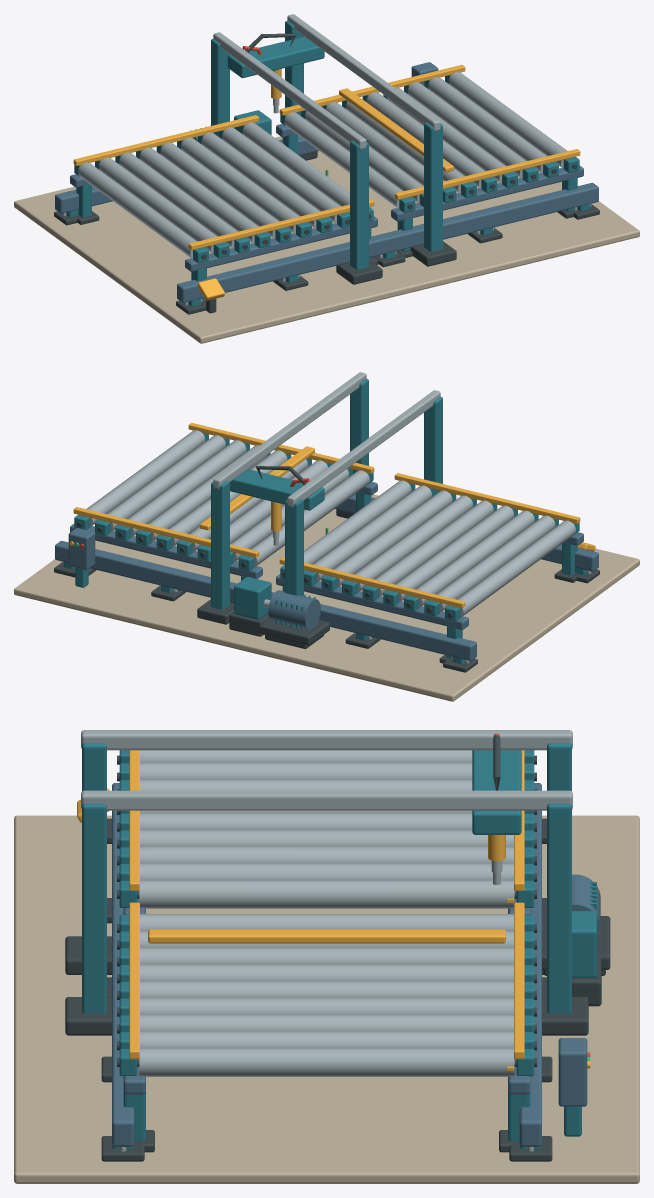
The model's file is CS-PLATE-06-lod0.glb.
3 renders of one model, top to bottom at view 1: azimuth 30°, elevation 25°; view 2: azimuth 150°, elevation 25°; view 3: azimuth 270°, elevation 25°, orthographic. The views are drawn at different scales.
Parts seen in each view (by area): view 1: foundation, right_bed_beam, entry_table_idler_0, exit_right_pillar, entry_right_pillar, entry_gantry_rail, exit_gantry_rail, entry_table_idler_4, entry_table_idler_2, entry_table_idler_6, entry_table_idler_1, exit_table_idler_6 (+25 smaller); view 2: foundation, left_bed_beam, entry_table_idler_0, exit_left_pillar, entry_gantry_rail, exit_gantry_rail, entry_table_idler_4, entry_table_idler_2, entry_table_idler_6, entry_table_idler_1, exit_table_idler_6, entry_table_idler_3 (+29 smaller); view 3: foundation, exit_table_idler_8, entry_table_idler_8, exit_gantry_rail, entry_gantry_rail, exit_table_idler_2, exit_table_idler_3, exit_table_idler_6, exit_table_idler_7, entry_table_idler_6, exit_table_idler_4, exit_table_idler_5 (+33 smaller).
Boxes of the visible parts, bbox=[...] form: foundation: bbox=[14, 136, 639, 343]; right_bed_beam: bbox=[177, 182, 598, 302]; entry_table_idler_0: bbox=[78, 162, 196, 258]; exit_right_pillar: bbox=[424, 122, 442, 251]; entry_right_pillar: bbox=[350, 140, 368, 269]; entry_gantry_rail: bbox=[213, 32, 366, 149]; exit_gantry_rail: bbox=[287, 14, 440, 131]; entry_table_idler_4: bbox=[160, 142, 278, 238]; entry_table_idler_2: bbox=[119, 152, 237, 248]; entry_table_idler_6: bbox=[201, 132, 320, 228]; entry_table_idler_1: bbox=[98, 157, 217, 253]; exit_table_idler_6: bbox=[407, 82, 526, 178]; foundation: bbox=[14, 494, 639, 701]; left_bed_beam: bbox=[55, 540, 476, 660]; entry_table_idler_0: bbox=[457, 520, 575, 616]; exit_left_pillar: bbox=[211, 480, 229, 609]; entry_gantry_rail: bbox=[287, 390, 440, 507]; exit_gantry_rail: bbox=[213, 372, 366, 489]; entry_table_idler_4: bbox=[375, 500, 493, 596]; entry_table_idler_2: bbox=[416, 510, 534, 606]; entry_table_idler_6: bbox=[333, 490, 452, 586]; entry_table_idler_1: bbox=[436, 515, 555, 611]; exit_table_idler_6: bbox=[127, 440, 246, 536]; entry_table_idler_3: bbox=[395, 505, 514, 601]; foundation: bbox=[14, 815, 639, 1183]; exit_table_idler_8: bbox=[139, 1048, 514, 1076]; entry_table_idler_8: bbox=[139, 880, 514, 908]; exit_gantry_rail: bbox=[81, 790, 572, 810]; entry_gantry_rail: bbox=[81, 730, 572, 750]; exit_table_idler_2: bbox=[140, 947, 513, 964]; exit_table_idler_3: bbox=[140, 964, 513, 981]; exit_table_idler_6: bbox=[140, 1014, 513, 1031]; exit_table_idler_7: bbox=[140, 1031, 513, 1048]; entry_table_idler_6: bbox=[140, 846, 513, 863]; exit_table_idler_4: bbox=[140, 981, 513, 997]; exit_table_idler_5: bbox=[140, 998, 513, 1014].
Bounding box in the file's own units: 9.5 × 3.21 × 7.
